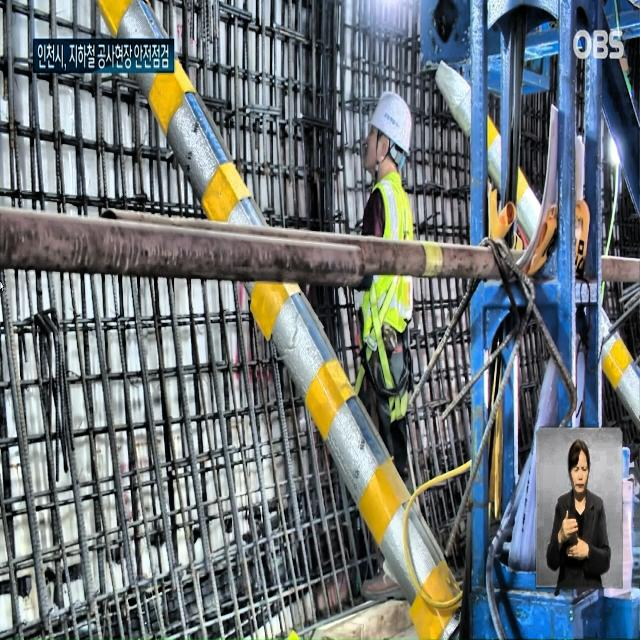safety_helmet: (366, 91, 412, 160)
safety_jacket: (360, 172, 415, 349)
